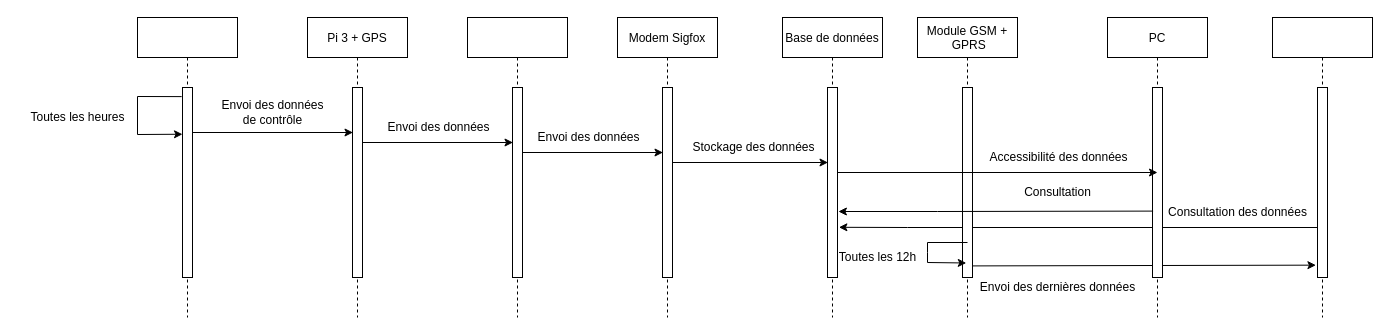
The diagram is 1390 pixels wide and 335 high, and some of its shapes have lost their labels. The box of each missing label's shape, as (x1, y1, x2, y2) in pixels:
Accéléromètre + Balance: (136, 16, 238, 318)
Platine de test + Module GSM: (466, 16, 568, 318)
Téléphone: (1272, 16, 1372, 318)
